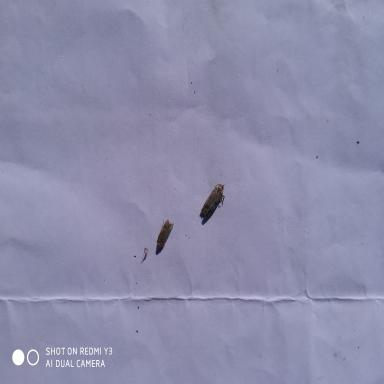pbw: (198, 182, 228, 222), (152, 215, 177, 259)
